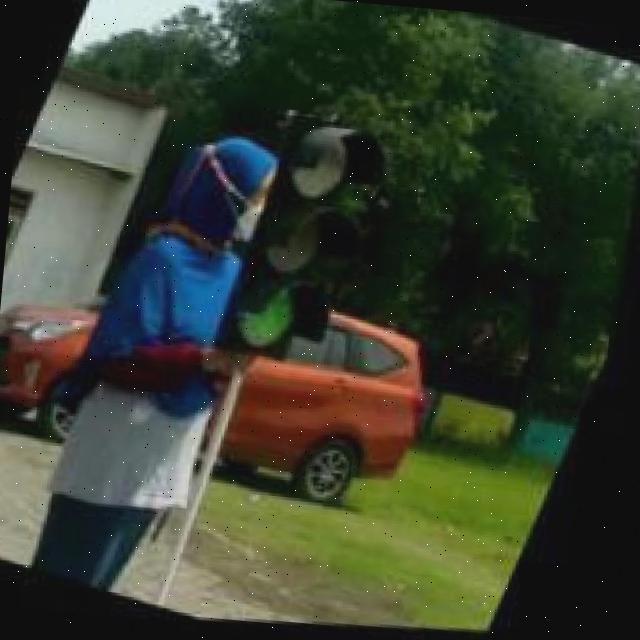green_light: (198, 104, 412, 388)
